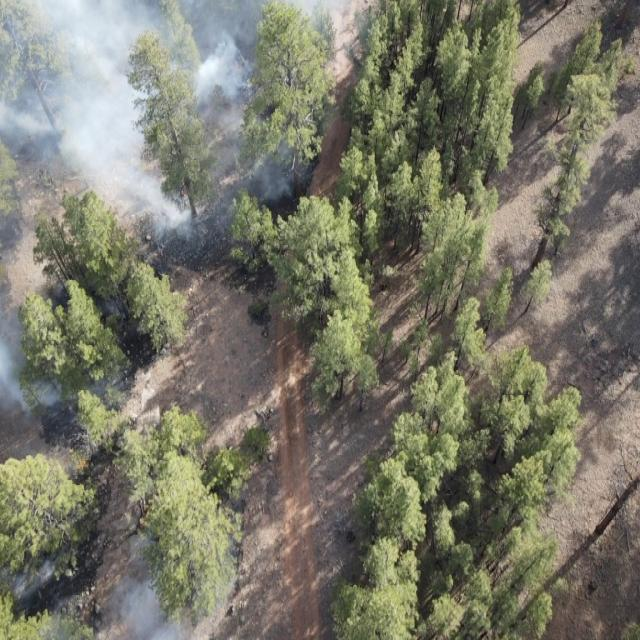fire: (76, 456, 90, 476), (139, 509, 147, 528), (180, 189, 187, 199)
smoke: (0, 0, 351, 260), (98, 522, 248, 640), (0, 276, 72, 426), (81, 369, 133, 418), (1, 560, 58, 600), (96, 298, 136, 327)
